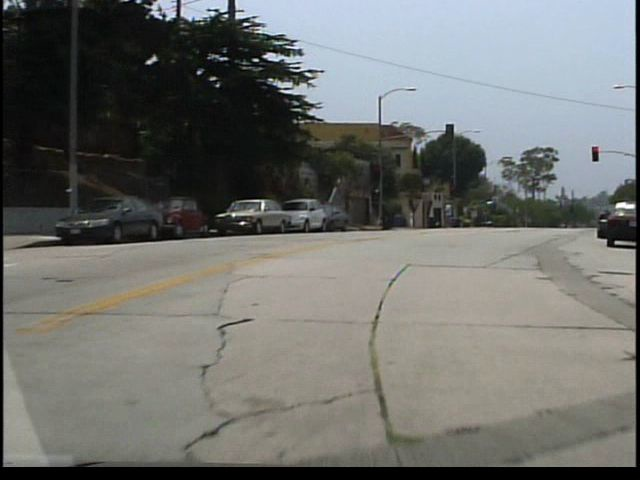person: (447, 202, 457, 230)
